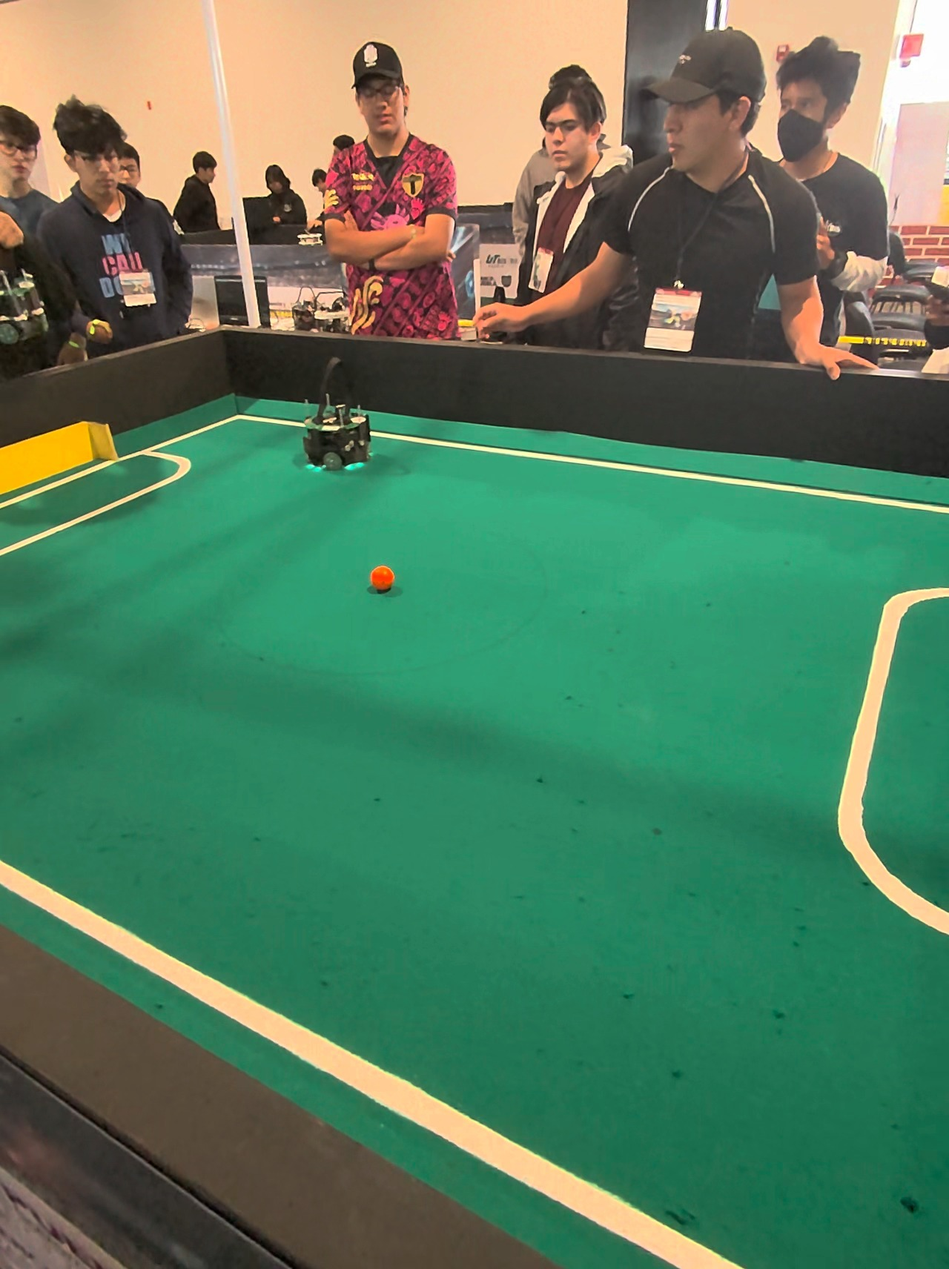Robot: (296, 351, 376, 487)
pelota: (370, 563, 395, 594)
